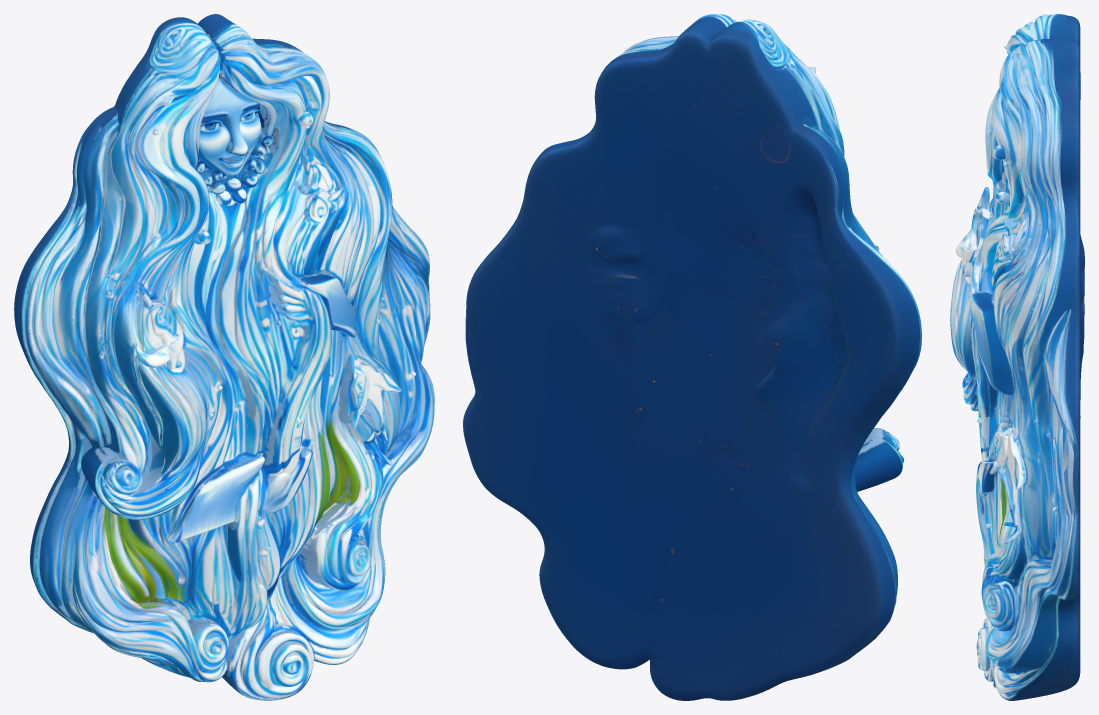
The model's file is 1763592086_lago-san-pablo.glb.
The picture shows the model from 3 angles, left to right: view 1: azimuth 30°, elevation 25°; view 2: azimuth 150°, elevation 25°; view 3: azimuth 270°, elevation 25°; orthographic projection. The views are drawn at different scales.
Parts seen in each view (by area): view 1: model; view 2: model; view 3: model.
Boxes of the visible parts, x1,y1,x2,y2 form: model: (14,14,434,700); model: (463,14,921,700); model: (950,14,1084,700).
Size of the model in its own units: 1.15 by 1.73 by 0.3313.
1 material, 1 textured.
